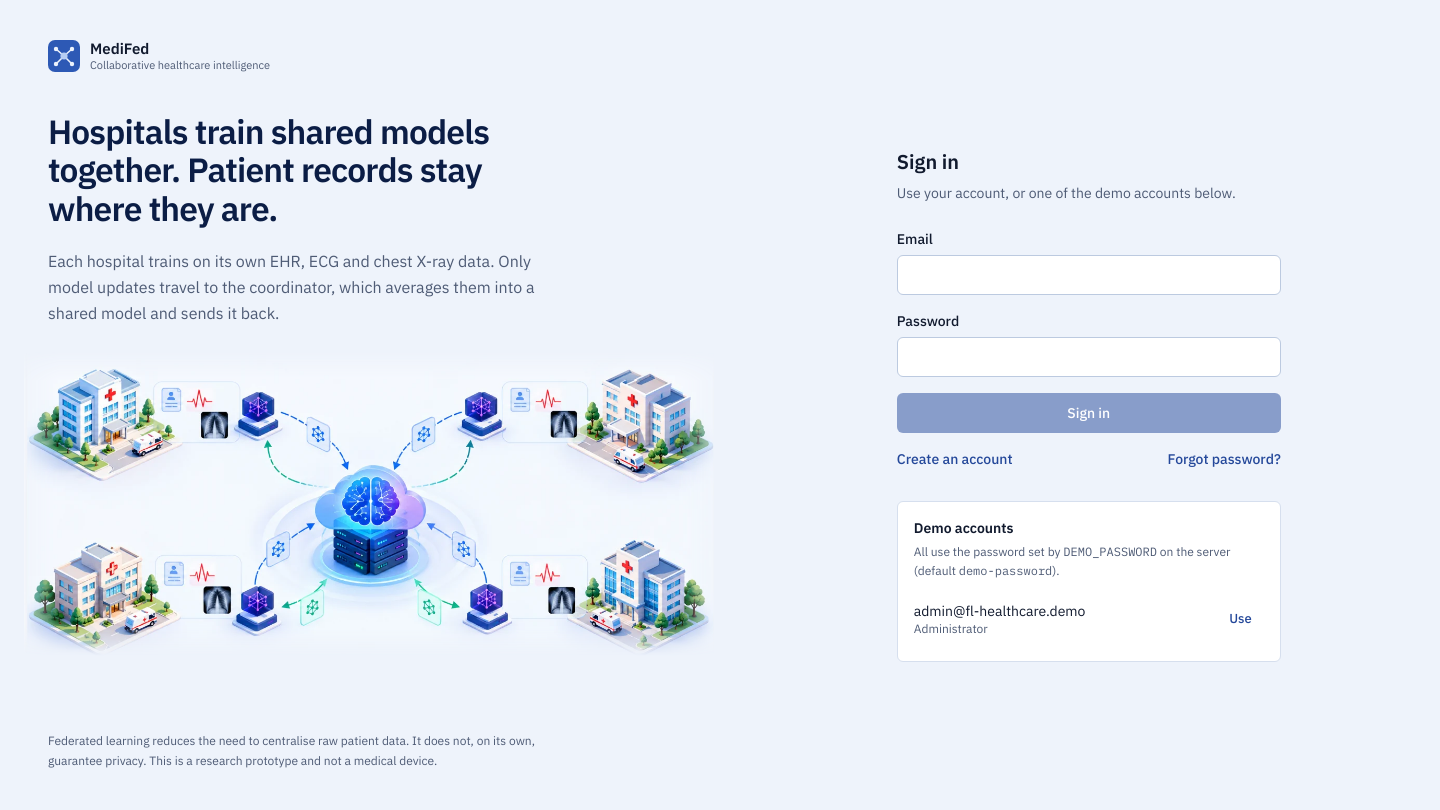
Scenario: creating an account › creates the account, signs it in and says up front that it is not an administrator account
Click the button "Create an account" at [955, 459], box x1=897 y1=449 x2=1013 y2=469
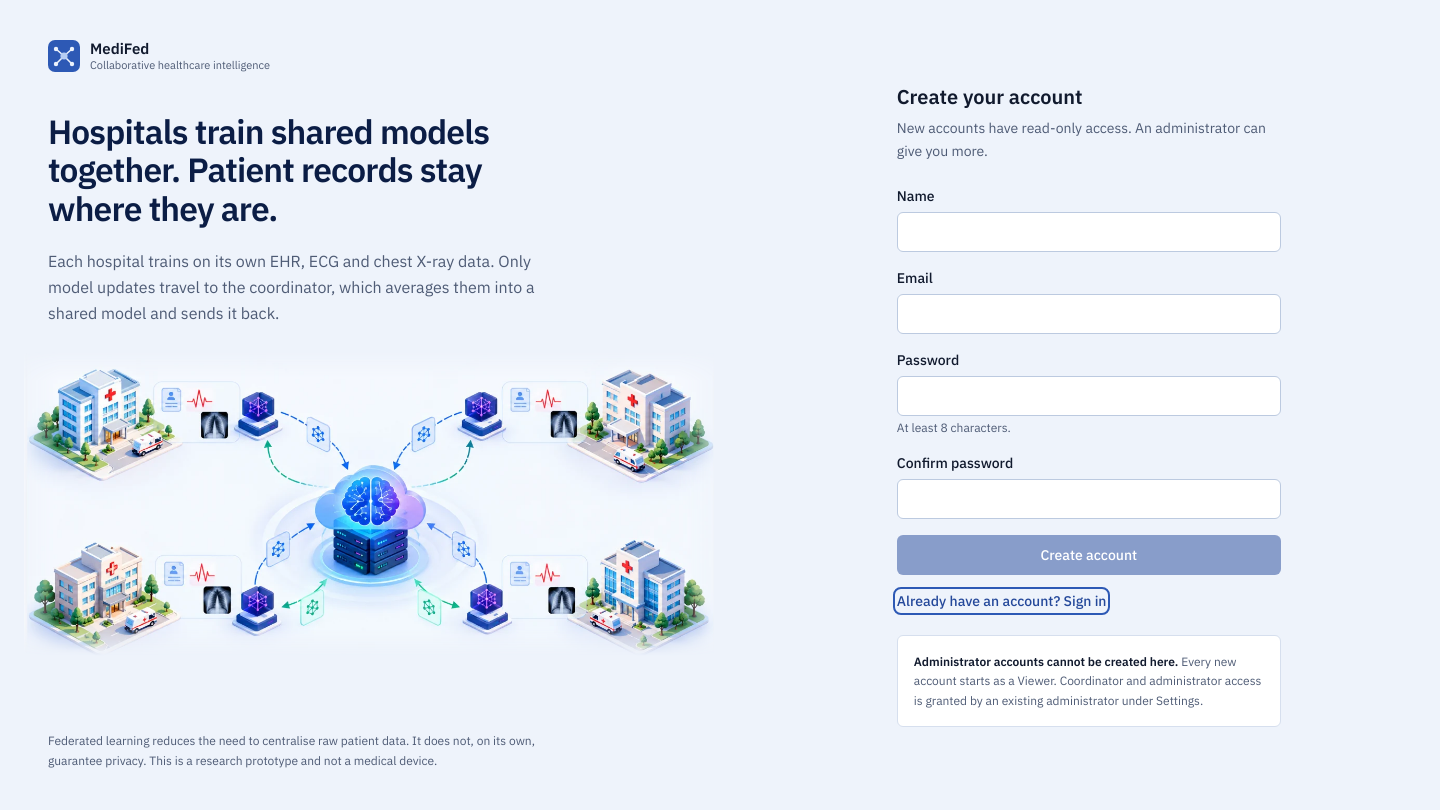
Result: the heading "Create your account" is shown at x1=897 y1=83 x2=1083 y2=110
Result: the text "Administrator accounts cannot be created here." is shown at x1=914 y1=654 x2=1178 y2=669
Type "Priya N" into the field labelled "Name" at [1089, 232], box x1=897 y1=212 x2=1281 y2=252
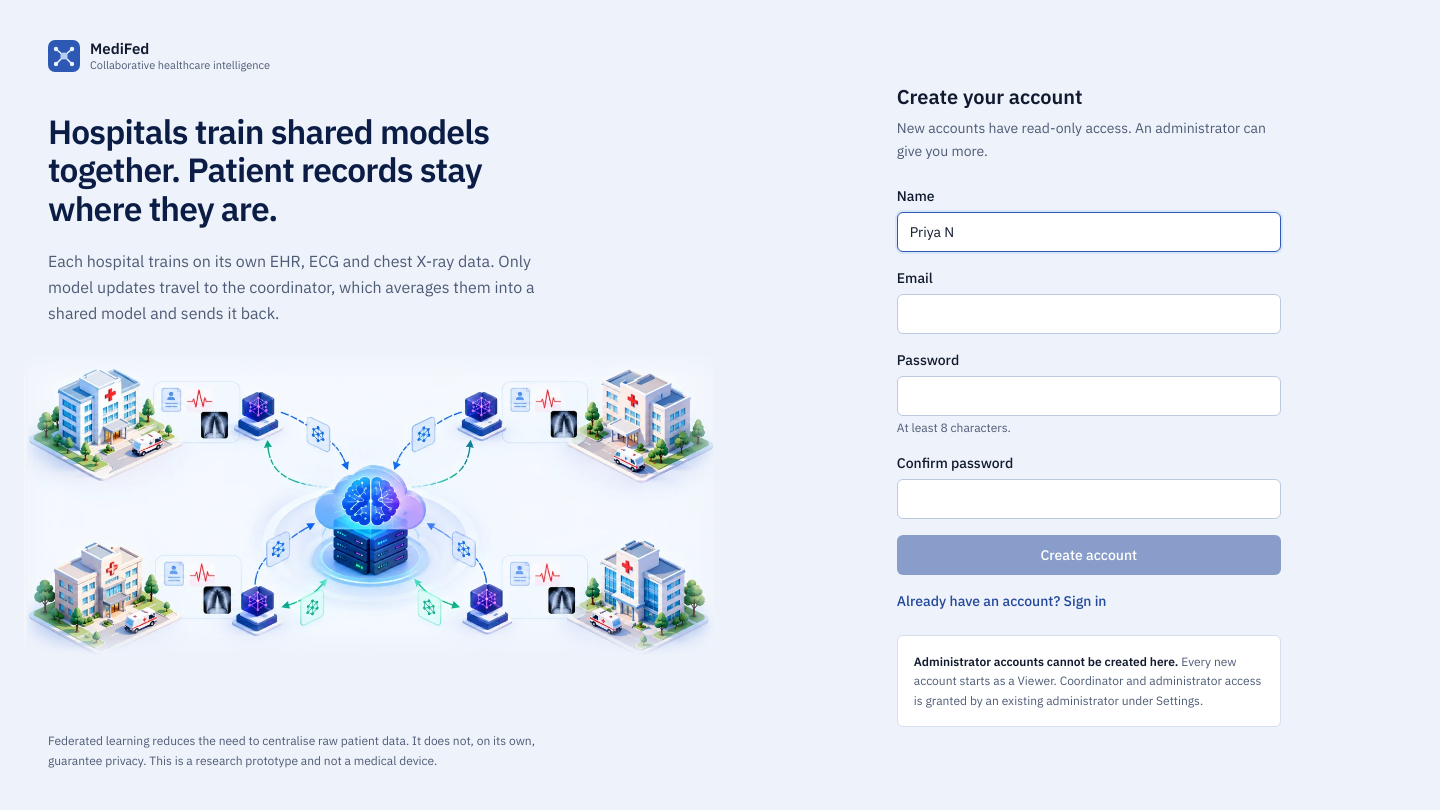
Type "priya@example.org" into the field labelled "Email" at [1089, 314], box x1=897 y1=294 x2=1281 y2=334
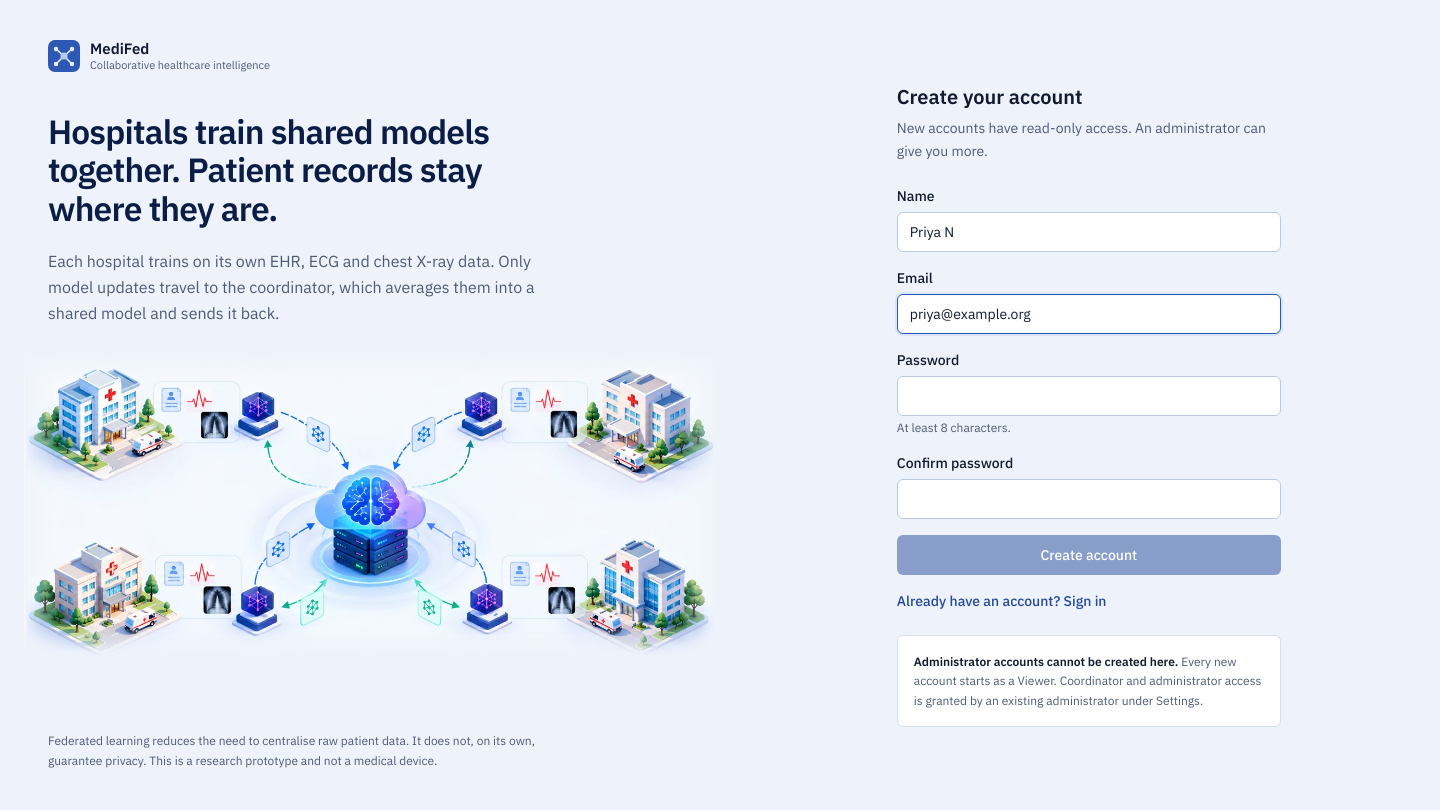
Type "correct horse 42" into the password field labelled "Password" at [1089, 396], box x1=897 y1=376 x2=1281 y2=416
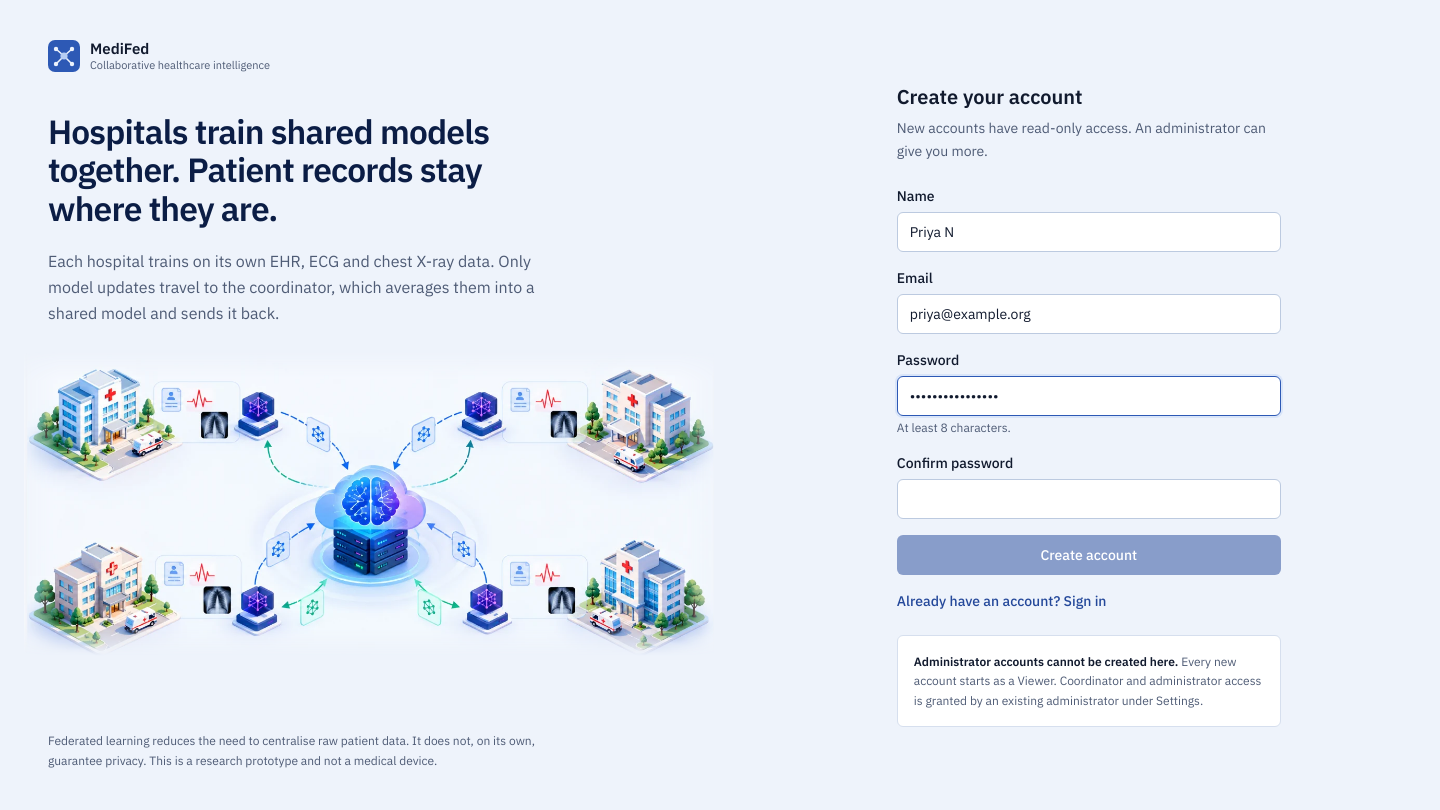
Type "correct horse 42" into the password field labelled "Confirm password" at [1089, 499], box x1=897 y1=479 x2=1281 y2=519
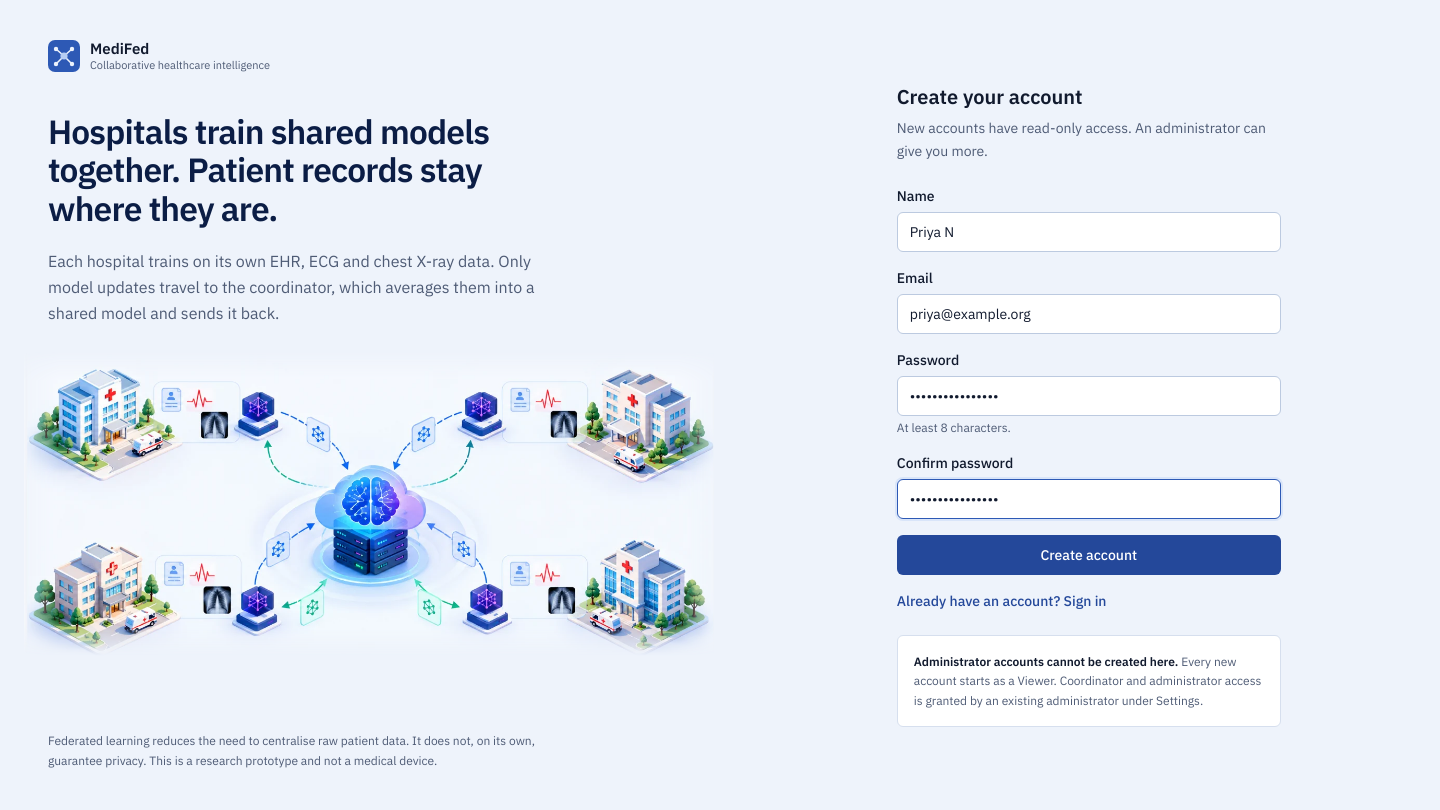
Click the button "Create account" at [1089, 555], box x1=897 y1=535 x2=1281 y2=575
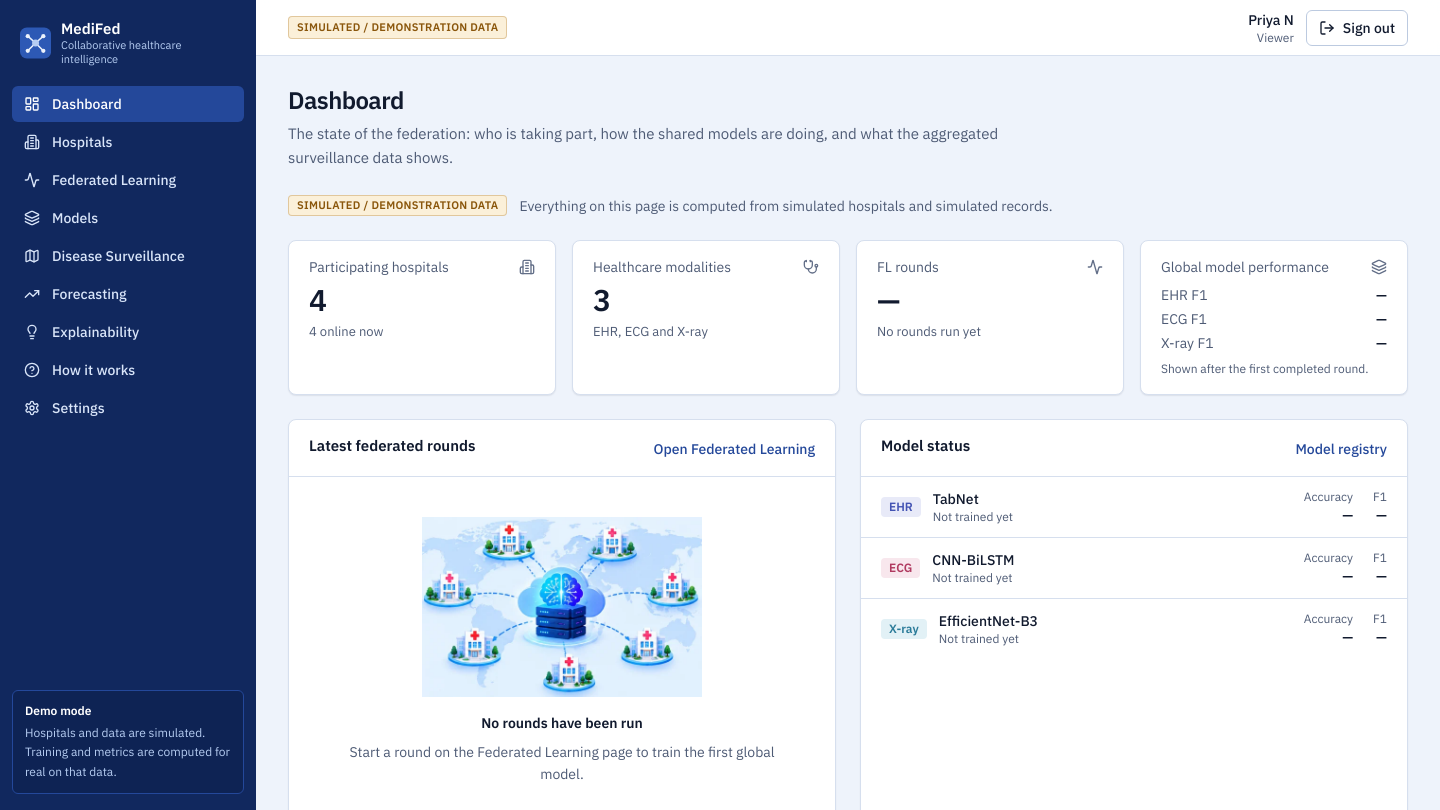
Result: the heading "Dashboard" is shown at x1=288 y1=84 x2=404 y2=116
